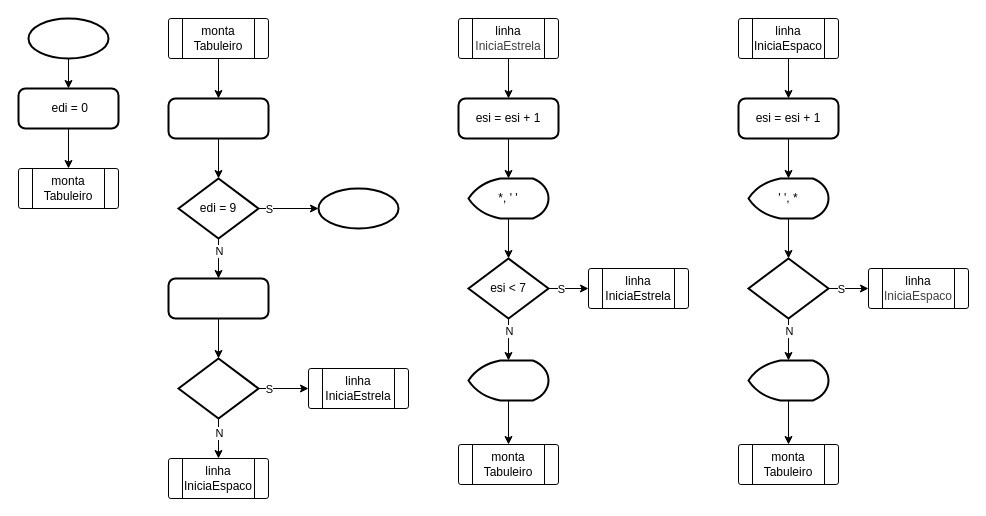
This 986x516 diagram has some shape labels left out. The shapes that lost their labels are listed below. From the top down, each one's centre as x and y in pixels, then its label:
At [68,38]: "Início".
At [218,118]: "edi = edi + 1".
At [358,208]: "Fim".
At [218,298]: "edx = edi % 2".
At [788,288]: "esi < 8".
At [218,388]: "edx = 0".
At [508,380]: "*, LF".
At [788,380]: "' ', LF".
